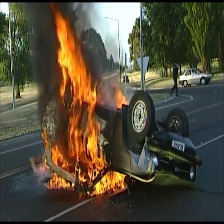fire_h: (51, 2, 108, 185), (87, 170, 126, 194), (45, 171, 75, 189)
fire_l: (41, 126, 49, 154), (116, 91, 128, 108), (39, 158, 50, 172)
